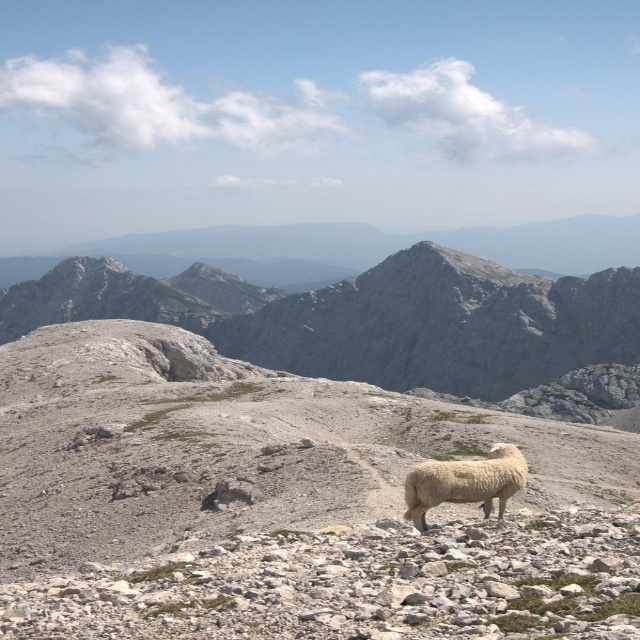Sheep: (400, 446, 537, 539)
